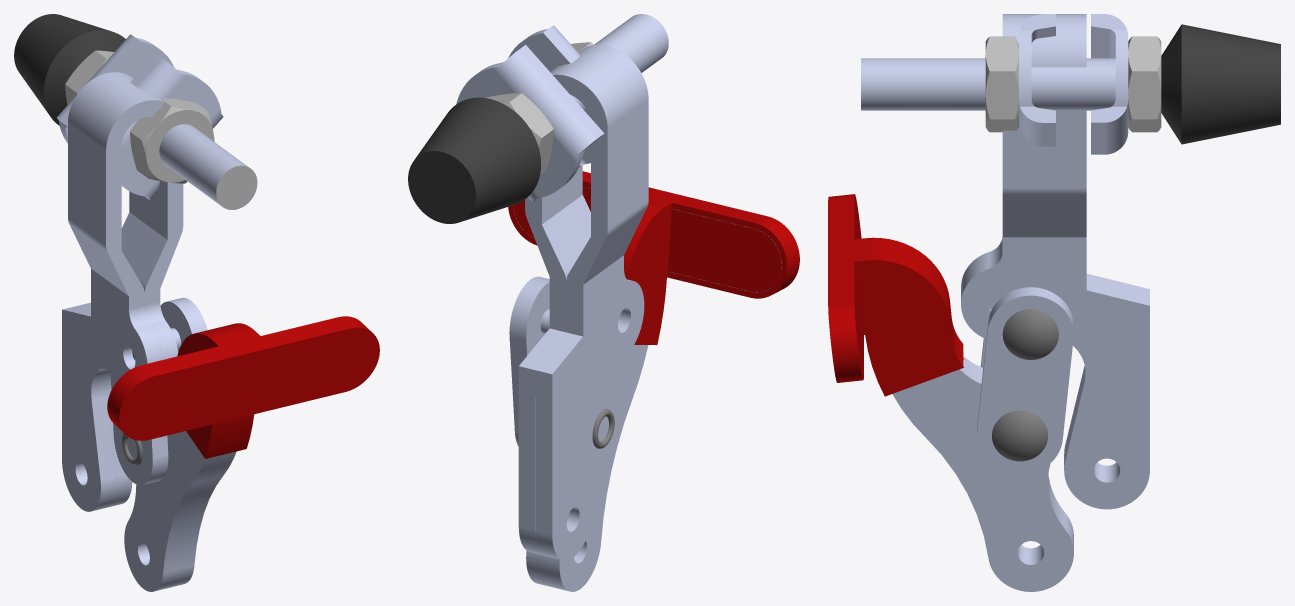
The model's file is ti_presser.obj.
3 views of the same model, side by side, from view 1: azimuth 30°, elevation 25°; view 2: azimuth 150°, elevation 25°; view 3: azimuth 270°, elevation 25° (orthographic). The views are drawn at different scales.
Visible parts, largest first — view 1: mesh160, mesh233, mesh96, mesh241, mesh239, mesh240, mesh84, mesh1, mesh158, mesh2, mesh91, mesh221 (+24 smaller); view 2: mesh233, mesh1, mesh173, mesh242, mesh218, mesh239, mesh240, mesh0, mesh168, mesh26, mesh96, mesh202 (+19 smaller); view 3: mesh236, mesh87, mesh1, mesh180, mesh188, mesh84, mesh245, mesh43, mesh243, mesh158, mesh240, mesh187 (+14 smaller).
Part boxes in pixels (<box>): mesh160: <box>119,327,379,440</box>; mesh233: <box>62,269,147,511</box>; mesh96: <box>124,431,205,591</box>; mesh241: <box>106,100,183,309</box>; mesh239: <box>68,123,105,244</box>; mesh240: <box>68,72,163,150</box>; mesh84: <box>159,124,248,205</box>; mesh1: <box>14,14,110,113</box>; mesh158: <box>142,317,349,376</box>; mesh2: <box>43,30,125,125</box>; mesh91: <box>163,476,222,572</box>; mesh221: <box>121,212,167,284</box>; mesh233: <box>552,255,644,560</box>; mesh1: <box>414,97,541,221</box>; mesh173: <box>668,209,781,292</box>; mesh242: <box>525,74,607,336</box>; mesh218: <box>518,366,552,534</box>; mesh239: <box>607,99,648,229</box>; mesh240: <box>550,45,648,128</box>; mesh0: <box>408,151,475,223</box>; mesh168: <box>627,203,671,344</box>; mesh26: <box>492,49,597,161</box>; mesh96: <box>559,345,648,591</box>; mesh202: <box>583,359,623,469</box>; mesh236: <box>961,237,1149,509</box>; mesh87: <box>892,369,1073,591</box>; mesh1: <box>1181,24,1280,144</box>; mesh180: <box>854,260,963,396</box>; mesh188: <box>977,295,1073,474</box>; mesh84: <box>861,58,985,110</box>; mesh245: <box>1002,110,1086,187</box>; mesh43: <box>1031,58,1115,110</box>; mesh243: <box>1002,194,1086,237</box>; mesh158: <box>828,198,865,305</box>; mesh240: <box>1002,14,1086,67</box>; mesh187: <box>992,410,1047,461</box>.
Size of the model in its own units: 0.05 by 0.0958 by 0.0685.
